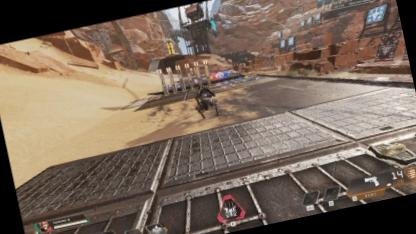Target: (190, 82, 219, 121)
